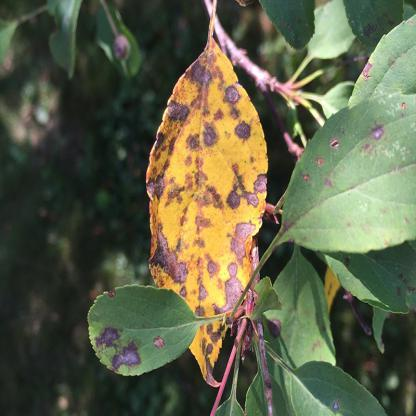Apple Scab Leaf: (150, 35, 256, 390), (268, 110, 416, 258), (86, 279, 194, 386)
